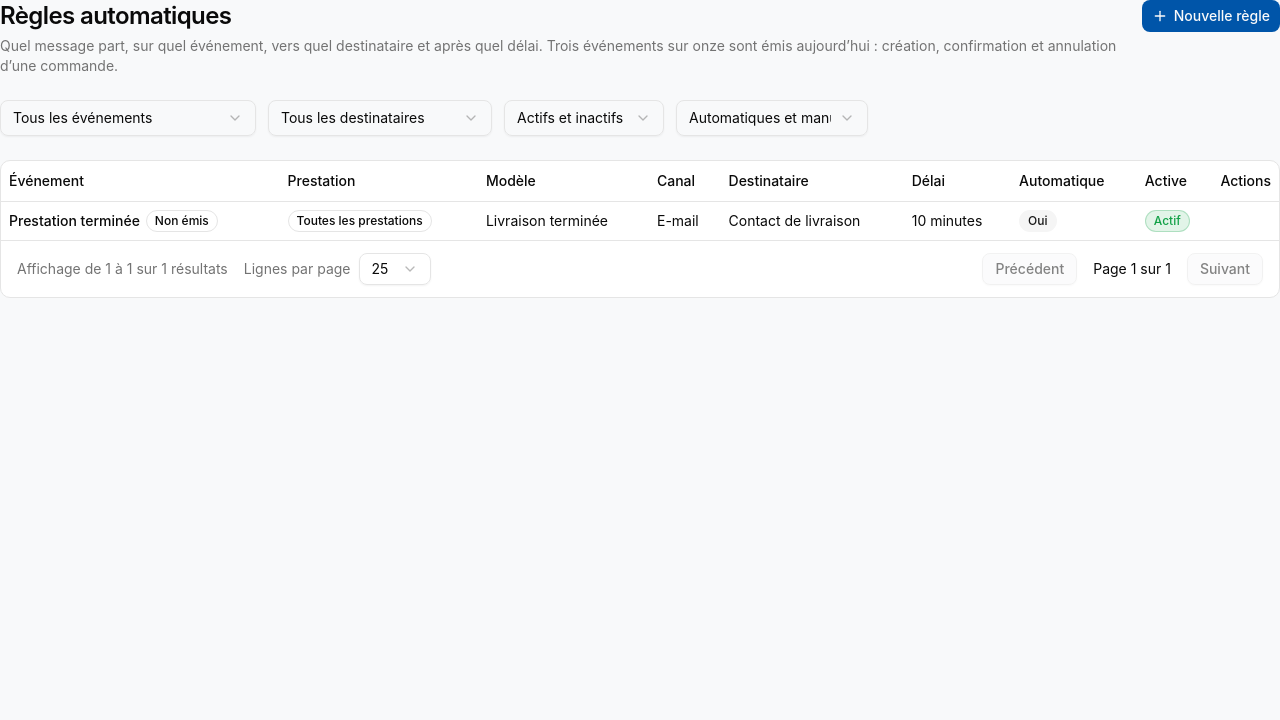
création d’une règle › refuse un champ de condition portant un chemin
Click the button "Nouvelle règle" at [1211, 16], box [1142,0,1279,32]
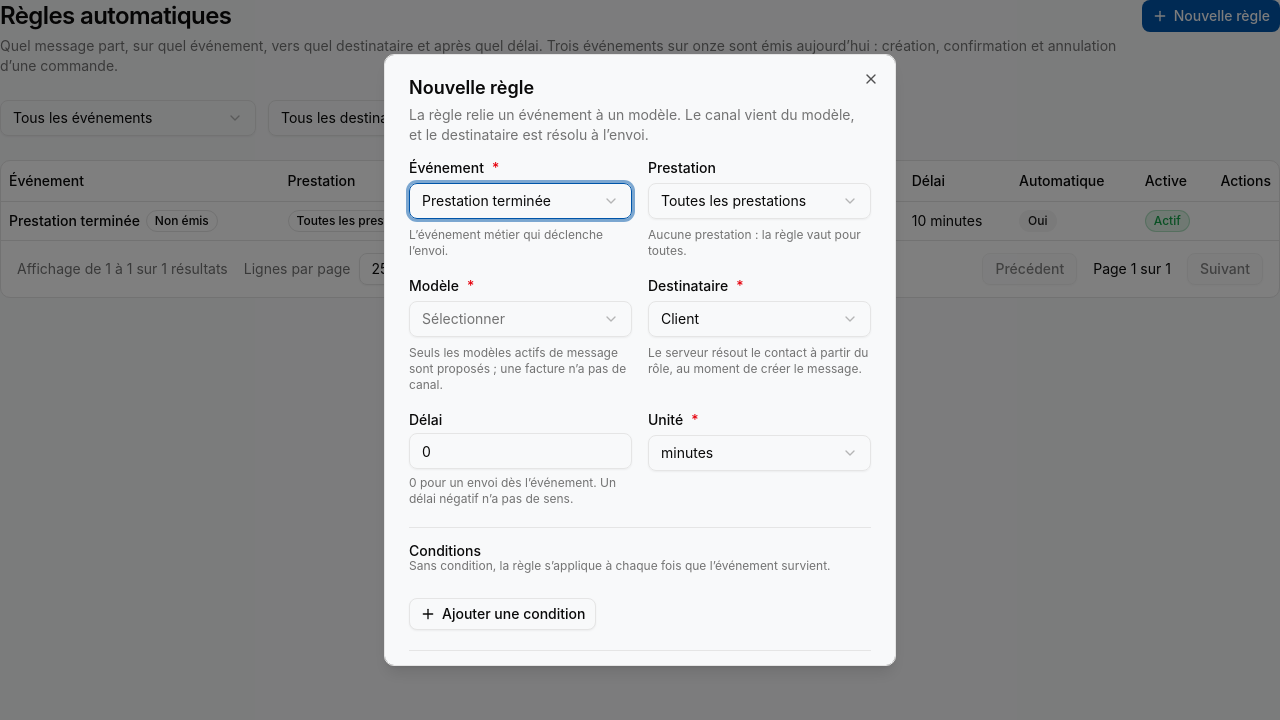
Click the button "Ajouter une condition" at [503, 614], box [409,598,596,630]
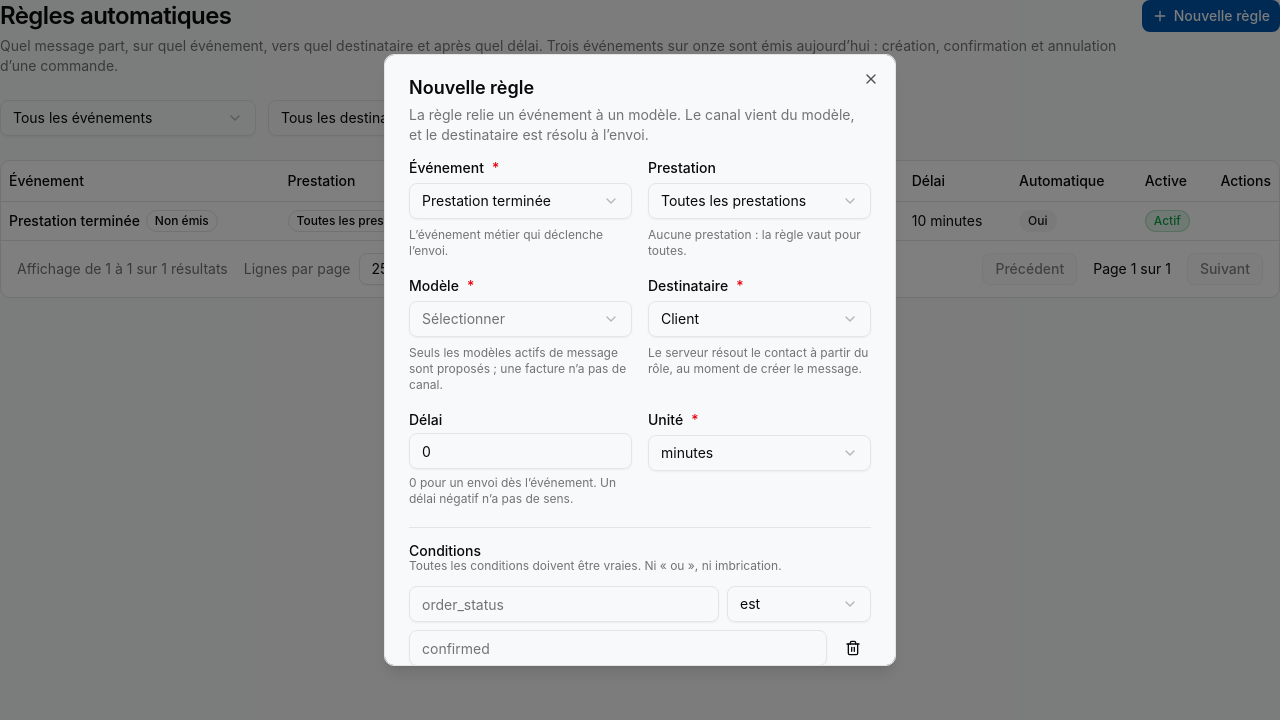
Type "order.customer.secret" into the field named "Champ" at [564, 604], box [409,586,719,622]
(page scrolled)
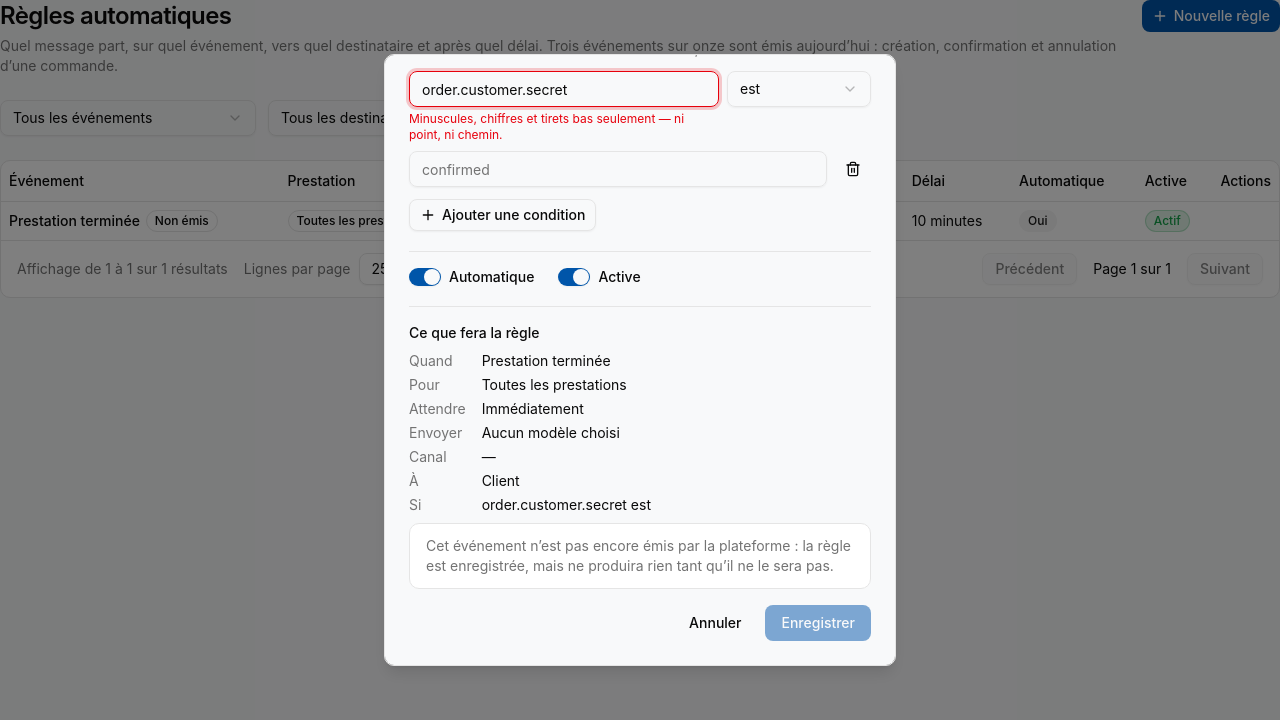
Expected: the text "Minuscules, chiffres et tirets bas" is shown, [409,111,684,142]
Expected: the button "Enregistrer" is disabled, [766,605,871,641]
